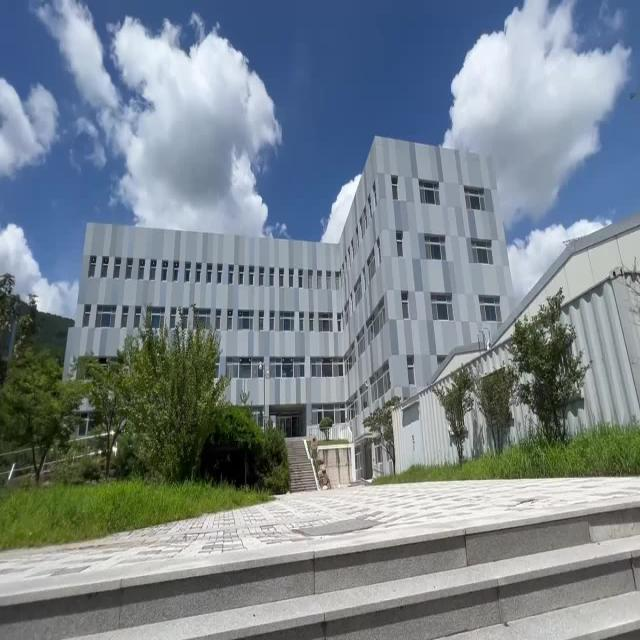building: (92, 143, 512, 364)
